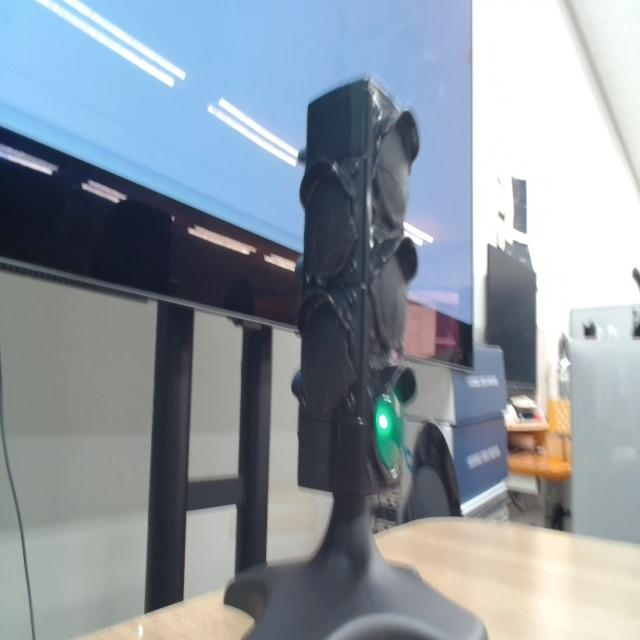green_light: (375, 392, 404, 471)
